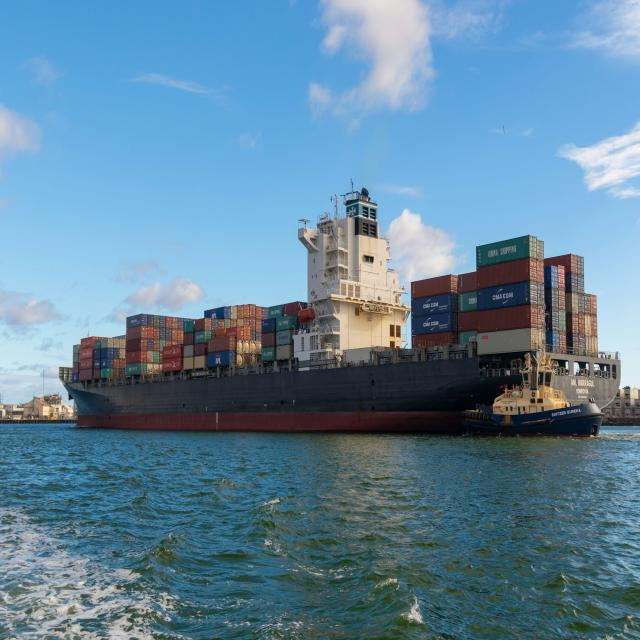Cargo: (60, 188, 620, 432)
Tug: (465, 356, 601, 436)
